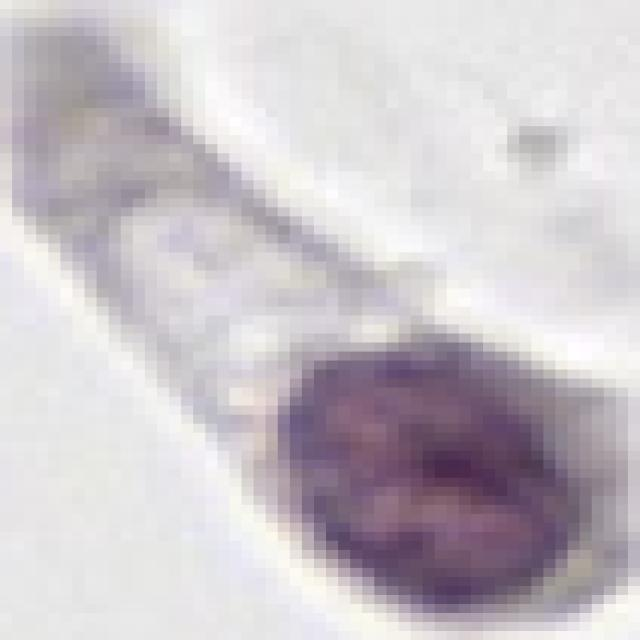nucleus: (237, 295, 629, 640)
